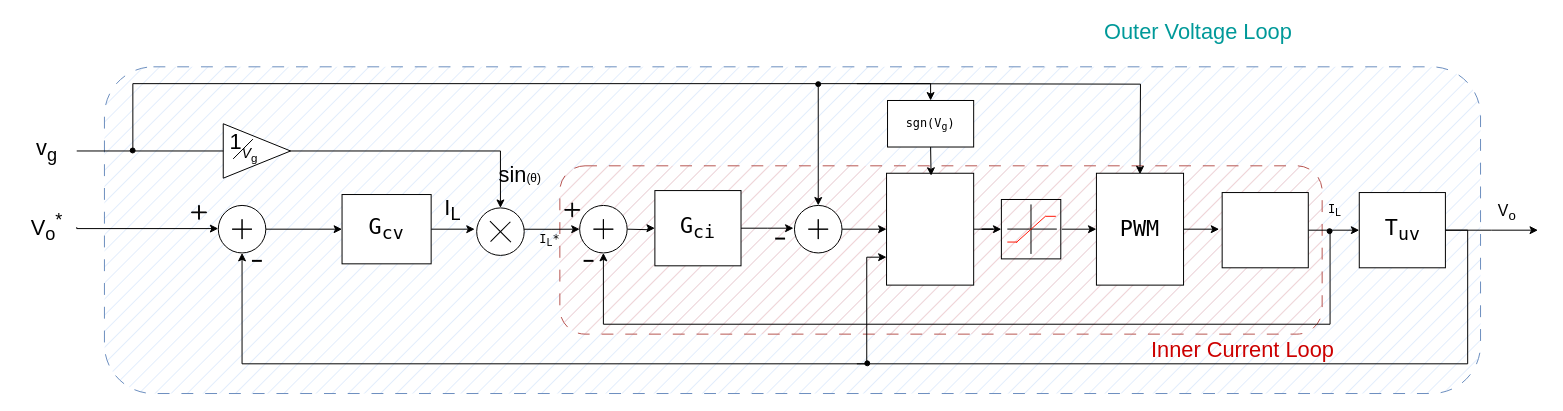
Some shapes in this 1563 by 411 pixel diagram are drawn without their labels. The centre of each missing label's shape, as x and y in pixels:
G id: [1264,230]
MODULATOR: [930,228]
